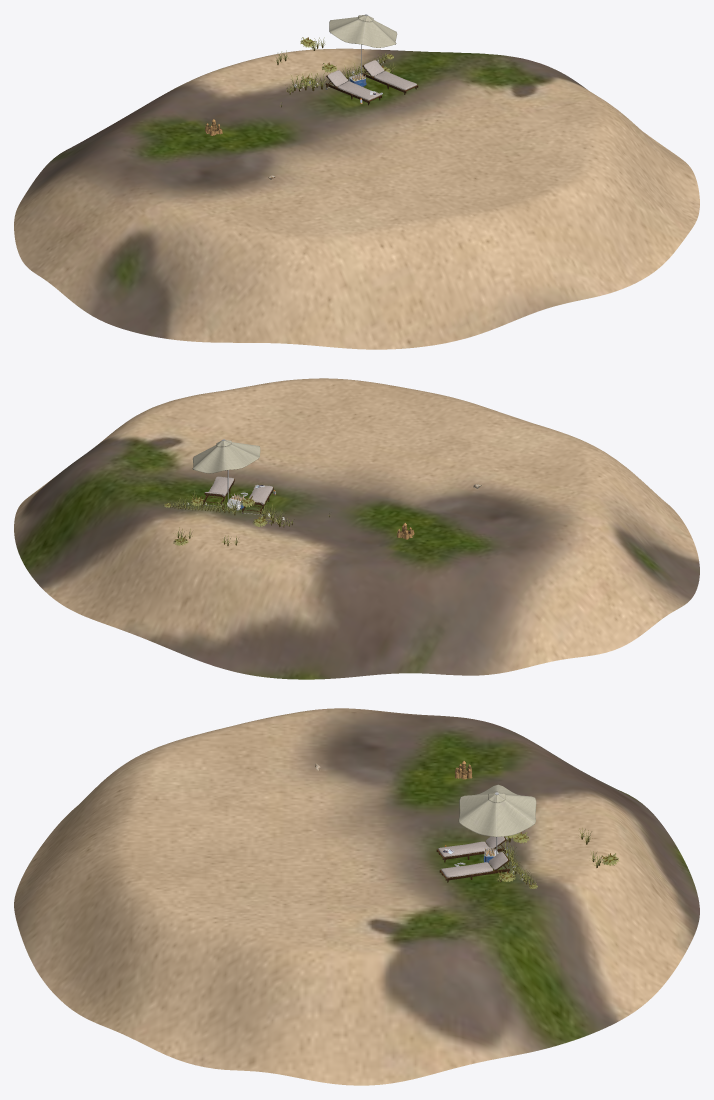
The model's file is s1-island-beach-v1.glb.
3 renders of one model, top to bottom at view 1: azimuth 30°, elevation 25°; view 2: azimuth 150°, elevation 25°; view 3: azimuth 270°, elevation 25°, orthographic. The views are drawn at different scales.
Visible parts, largest first — view 1: Beach_Terrain, S1_Umbrella_UmbrellaCloth_0, S1_SunLonuger.002_lounger cushion1_0, S1_Grass_Grass_0; view 2: Beach_Terrain, S1_Umbrella_UmbrellaCloth_0, S1_Grass_Grass_0, S1_SunLonuger.002_lounger cushion1_0; view 3: Beach_Terrain, S1_Umbrella_UmbrellaCloth_0, S1_SunLonuger.002_lounger cushion1_0.
Boxes of the visible parts, bbox=[...] form: Beach_Terrain: bbox=[14, 48, 699, 349]; S1_Umbrella_UmbrellaCloth_0: bbox=[329, 15, 397, 47]; S1_SunLonuger.002_lounger cushion1_0: bbox=[337, 71, 416, 100]; S1_Grass_Grass_0: bbox=[274, 37, 394, 107]; Beach_Terrain: bbox=[14, 378, 699, 679]; S1_Umbrella_UmbrellaCloth_0: bbox=[192, 440, 260, 473]; S1_Grass_Grass_0: bbox=[168, 490, 330, 545]; S1_SunLonuger.002_lounger cushion1_0: bbox=[209, 476, 272, 503]; Beach_Terrain: bbox=[14, 708, 699, 1085]; S1_Umbrella_UmbrellaCloth_0: bbox=[458, 784, 536, 836]; S1_SunLonuger.002_lounger cushion1_0: bbox=[438, 841, 492, 877].
Bounding box in the file's own units: 44.94 × 10.08 × 38.52.
24 materials, 22 textured.
